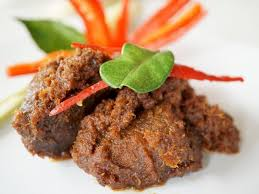rendang: (11, 29, 249, 193)
